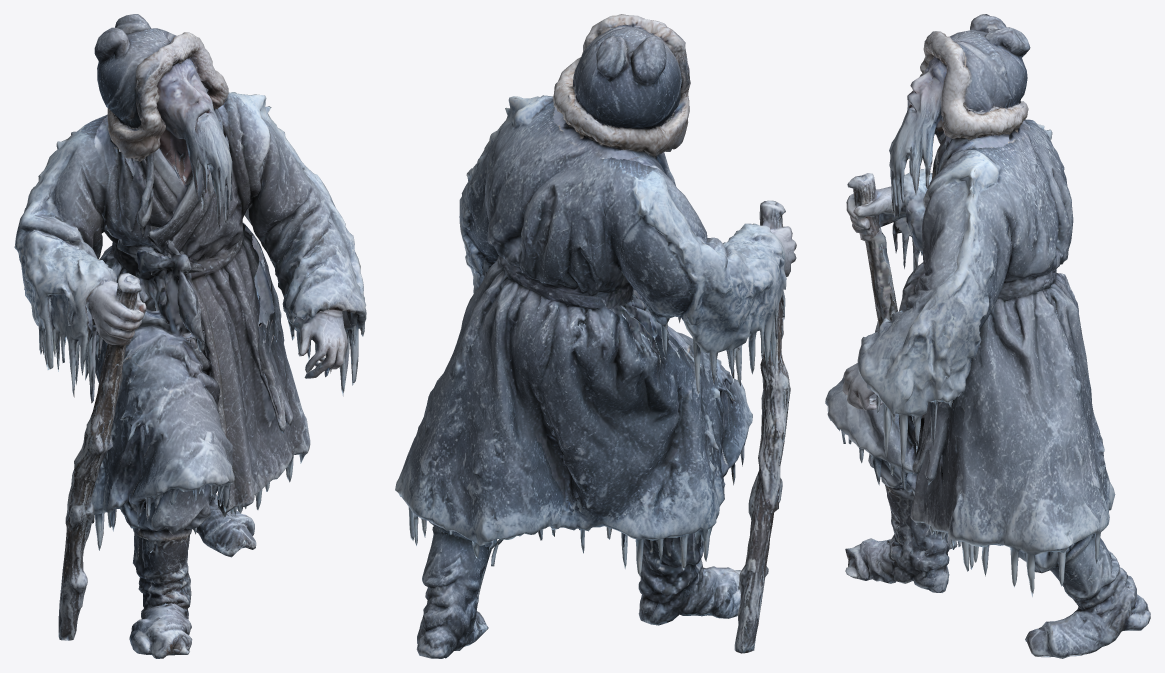
File: PR_FrozenVillager_OldMan.fbx
The picture shows the model from 3 angles, left to right: view 1: azimuth 30°, elevation 25°; view 2: azimuth 150°, elevation 25°; view 3: azimuth 270°, elevation 25°; orthographic projection. The views are drawn at different scales.
Parts seen in each view (by area): view 1: texture_mapping; view 2: texture_mapping; view 3: texture_mapping.
Boxes of the visible parts, bbox=[...] form: texture_mapping: bbox=[14, 14, 366, 658]; texture_mapping: bbox=[395, 14, 796, 658]; texture_mapping: bbox=[825, 14, 1150, 658].
Bounding box in the file's own units: 0.553 × 0.5238 × 1.
1 material, 1 textured.
